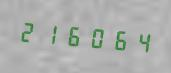four: (128, 23, 149, 58)
one: (39, 16, 60, 50)
six: (106, 21, 127, 56), (62, 18, 83, 52)
two: (17, 14, 38, 48)
zero: (84, 19, 105, 54)
